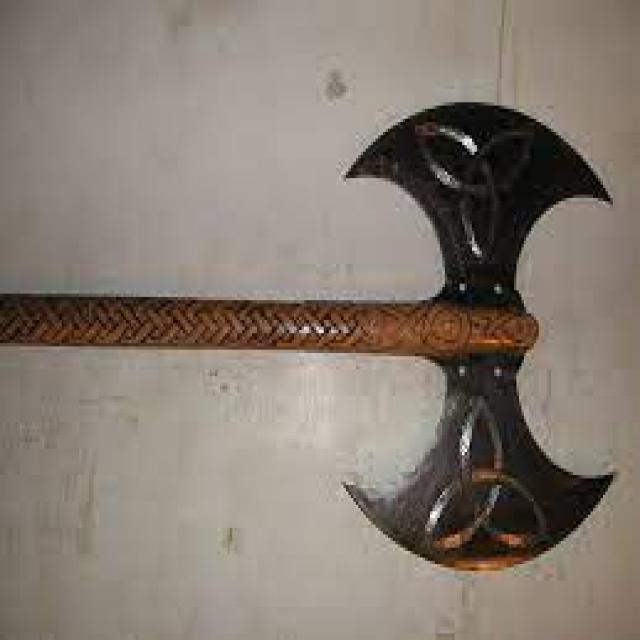Gun: (0, 44, 637, 577)
